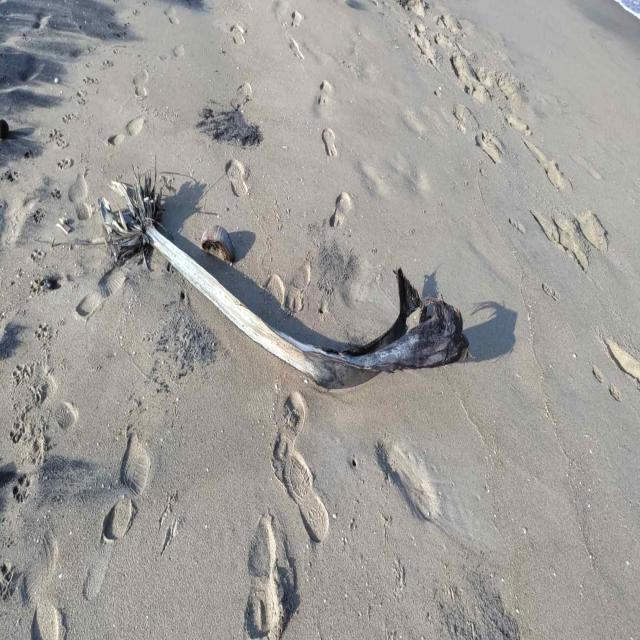rac_huu_co: (98, 171, 469, 388), (196, 106, 263, 145), (201, 224, 235, 261)
